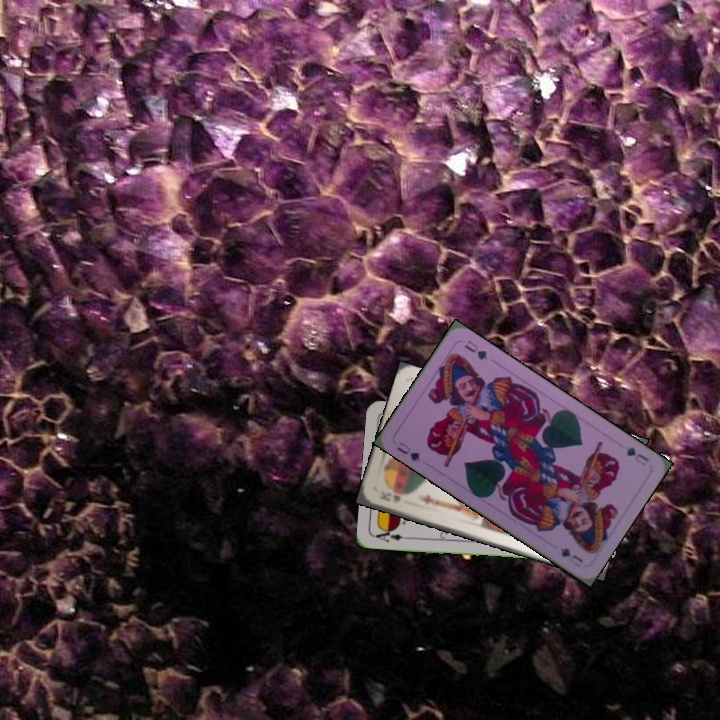EA: (371, 525, 411, 545)
GU: (621, 442, 651, 469), (393, 438, 423, 464)
SK: (375, 490, 403, 505)
